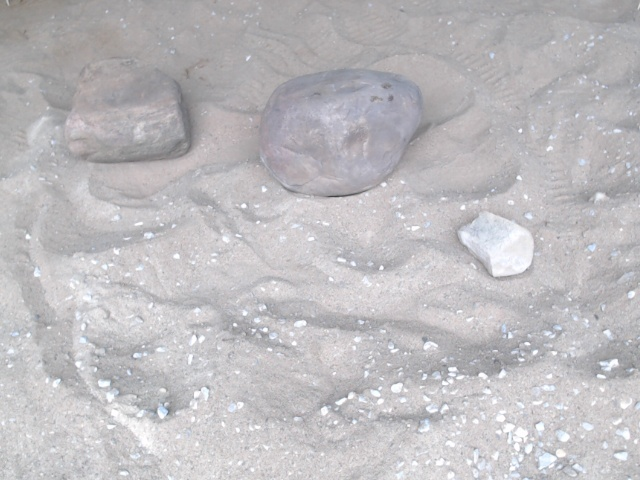rock: (253, 62, 429, 203), (60, 56, 196, 169), (451, 208, 538, 284)
